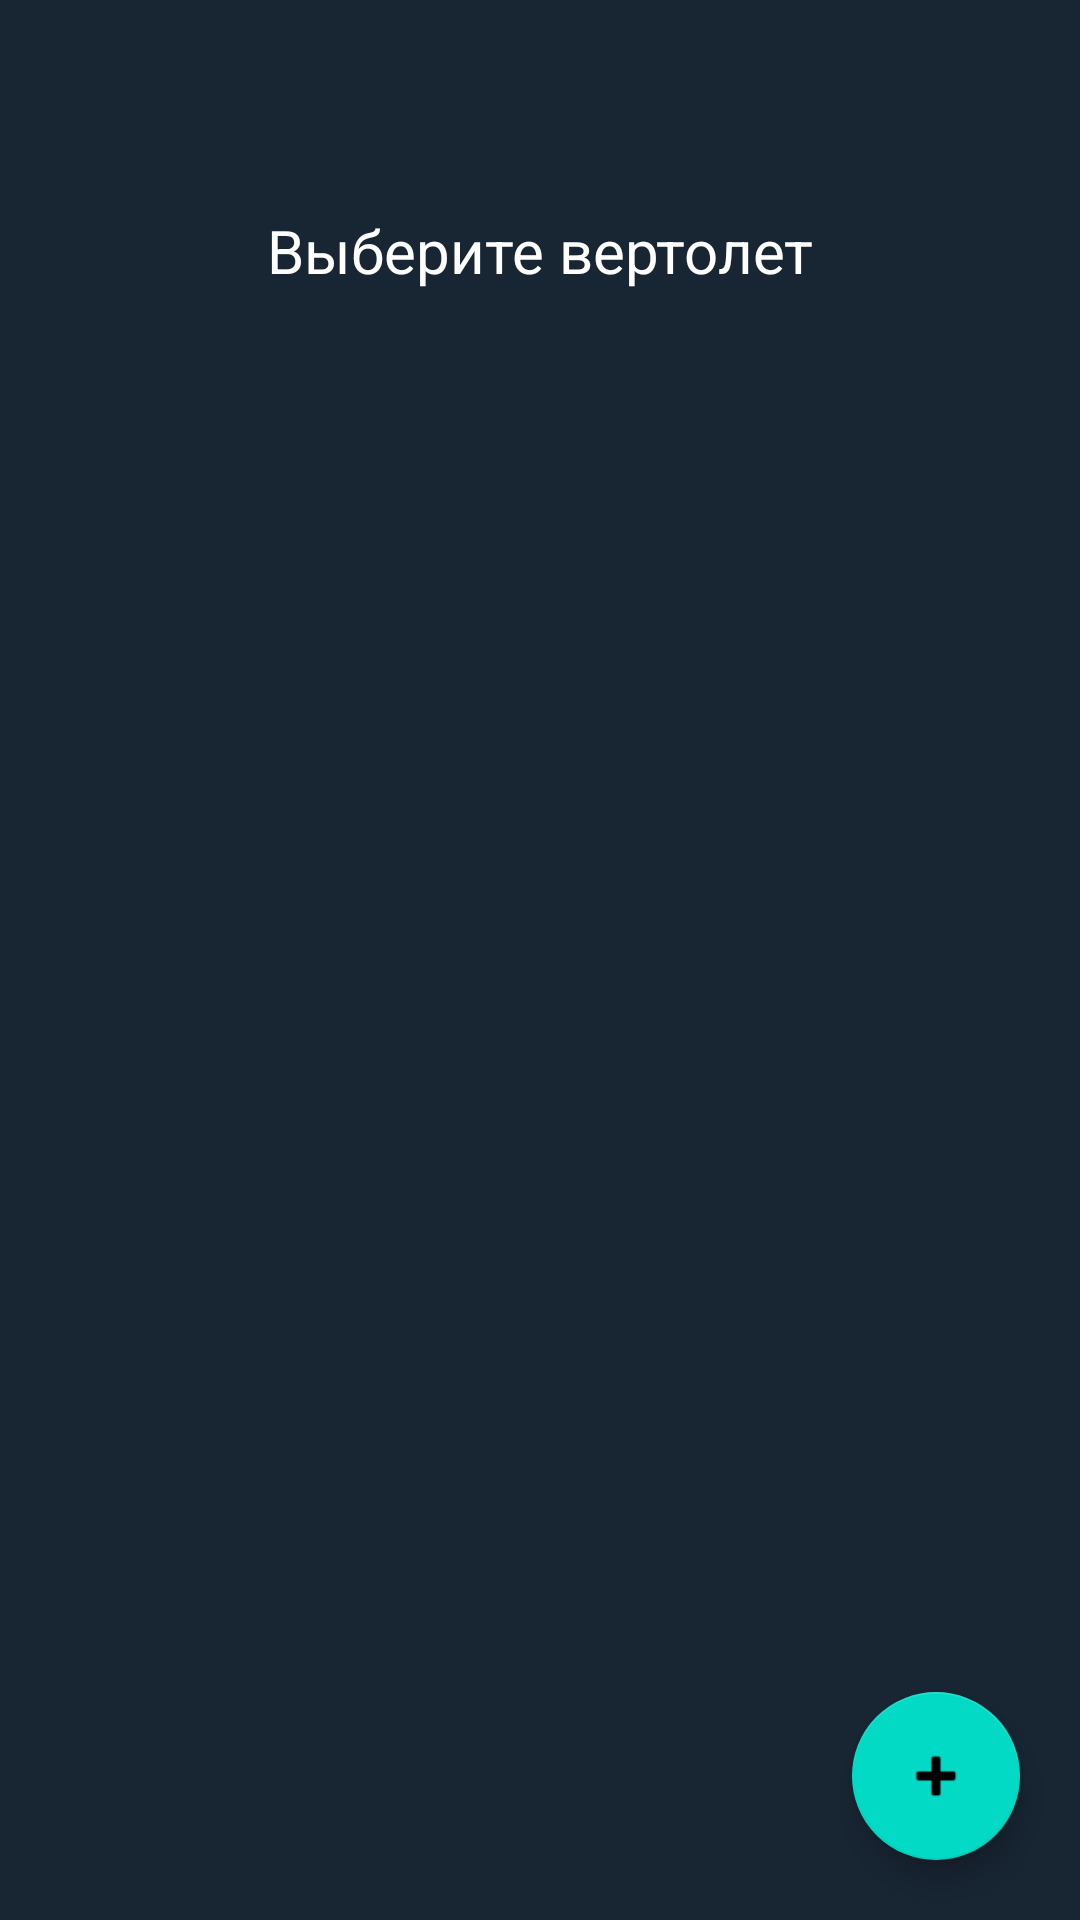

Icons on this 1080 x 1920 Android screen, each with the point to tap as point (x, y):
Добавить: point (936, 1776)
